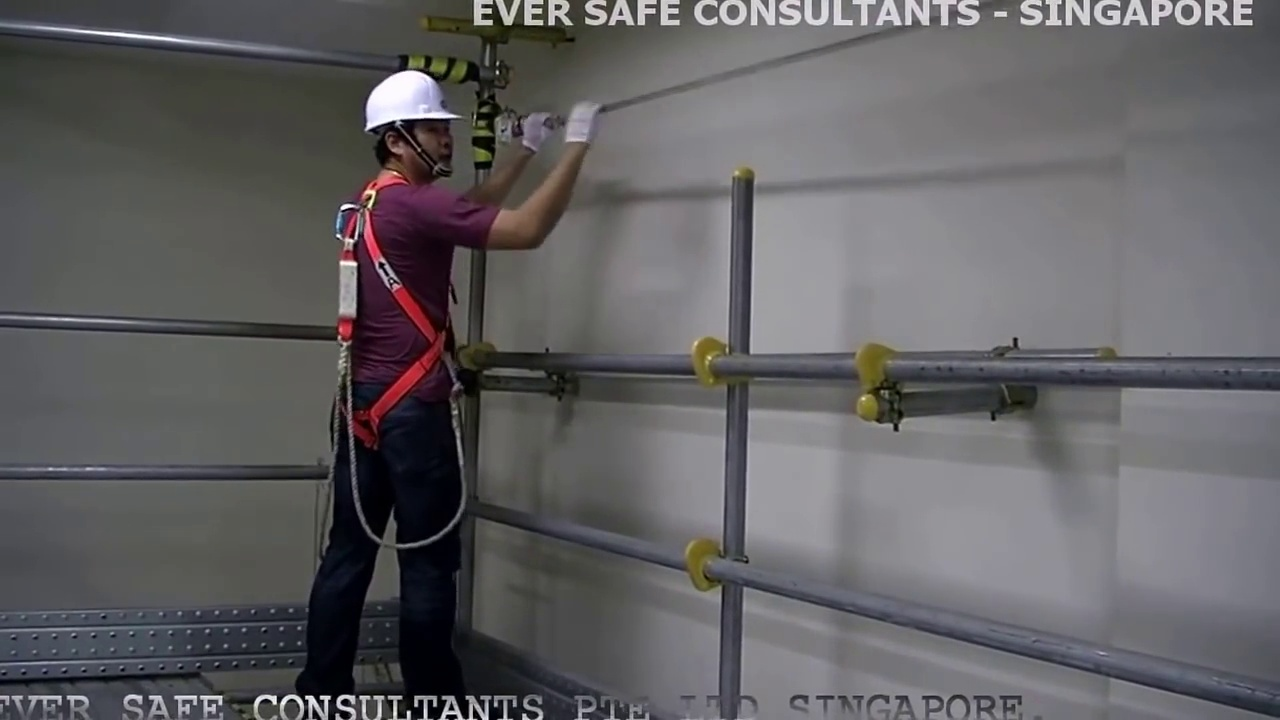harness: (332, 181, 443, 451)
helmet: (359, 69, 456, 125)
leash: (318, 461, 472, 551)
